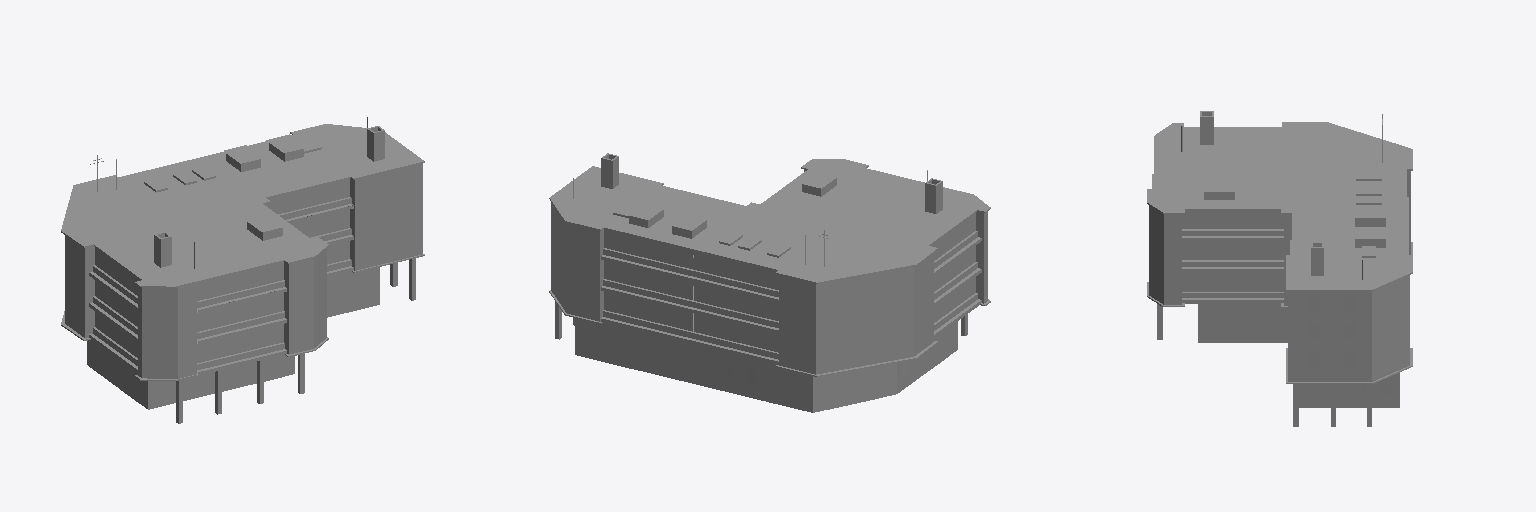
The model's file is building3.obj.
The picture shows the model from 3 angles: view 1: azimuth 30°, elevation 25°; view 2: azimuth 150°, elevation 25°; view 3: azimuth 270°, elevation 25°; orthographic projection.
Visible parts, largest first — view 1: Cube.003_Cube.005; view 2: Cube.003_Cube.005; view 3: Cube.003_Cube.005.
Boxes of the visible parts, <box> form: Cube.003_Cube.005: <box>61,117,424,423</box>; Cube.003_Cube.005: <box>549,153,990,412</box>; Cube.003_Cube.005: <box>1147,111,1412,426</box>.
Bounding box in the file's own units: 8.7 × 4.32 × 5.84.